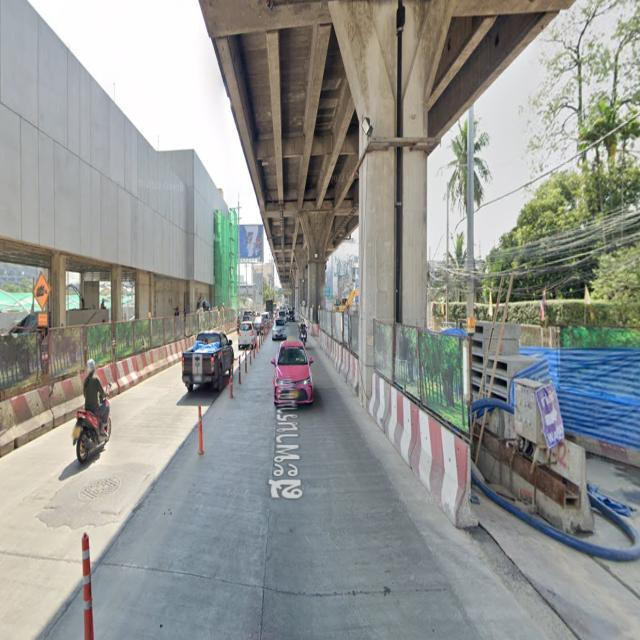fallen_object: (356, 352, 488, 536), (65, 522, 122, 636), (0, 386, 51, 461), (76, 347, 152, 391), (45, 353, 92, 421), (327, 332, 368, 401), (149, 327, 206, 364), (192, 397, 213, 459), (240, 325, 253, 404)
